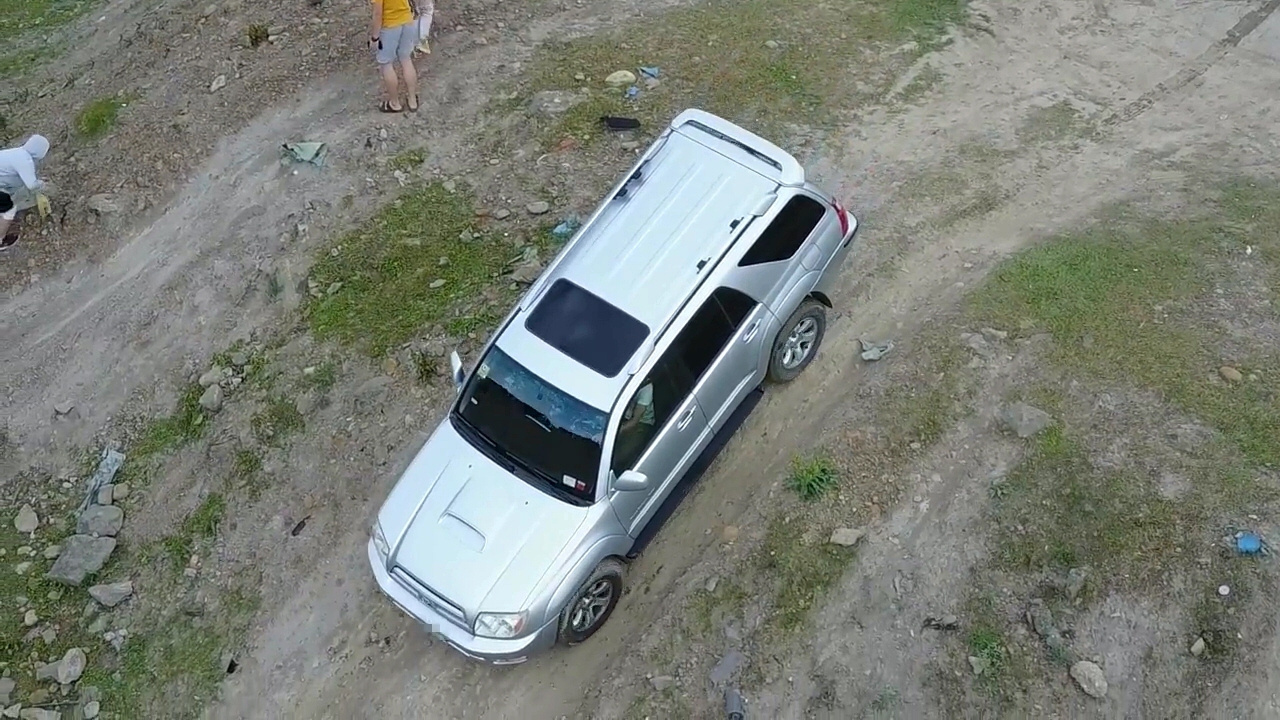araba: (367, 105, 859, 664)
insan: (1, 133, 59, 255), (367, 1, 422, 117)
